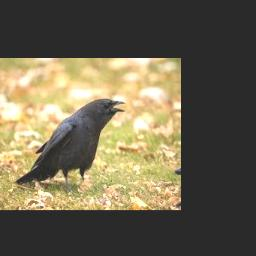Crow: (15, 98, 125, 192)
